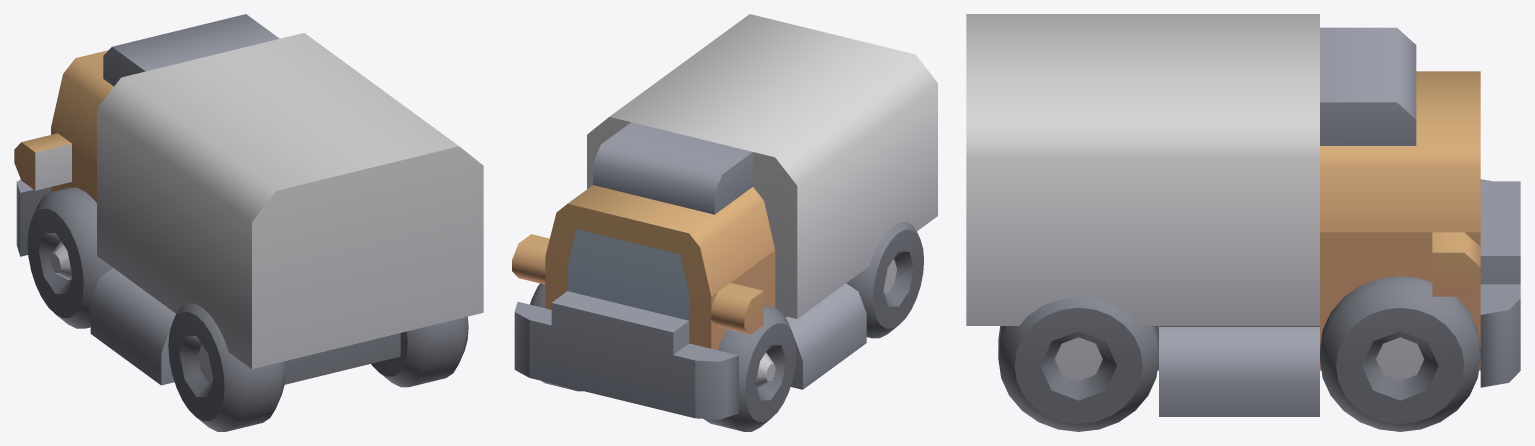
File: toy_truck.glb
The picture shows the model from 3 angles, left to right: view 1: azimuth 30°, elevation 25°; view 2: azimuth 150°, elevation 25°; view 3: azimuth 270°, elevation 25°; orthographic projection. The views are drawn at different scales.
Visible parts, largest first — view 1: toy_truck; view 2: toy_truck; view 3: toy_truck.
Boxes of the visible parts, x1,y1,x2,y2 form: toy_truck: [14, 14, 483, 431]; toy_truck: [512, 14, 937, 431]; toy_truck: [966, 14, 1520, 431].
Bounding box in the file's own units: 12.17 × 12.17 × 20.
